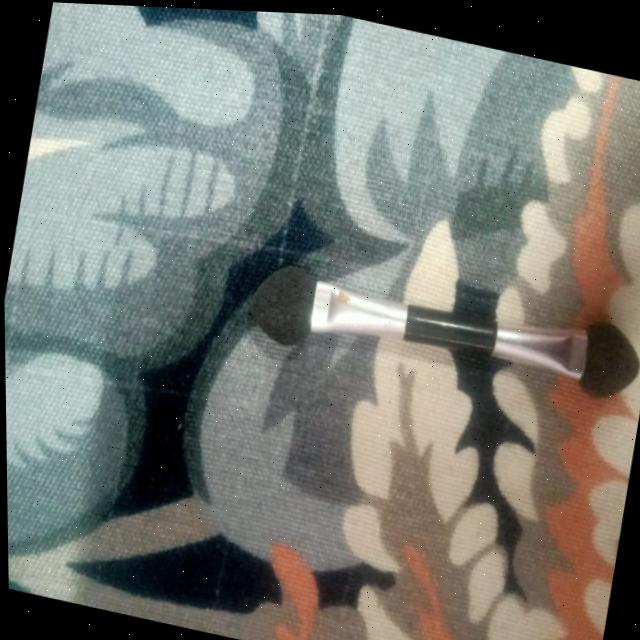beauty blender: (224, 218, 640, 432)
